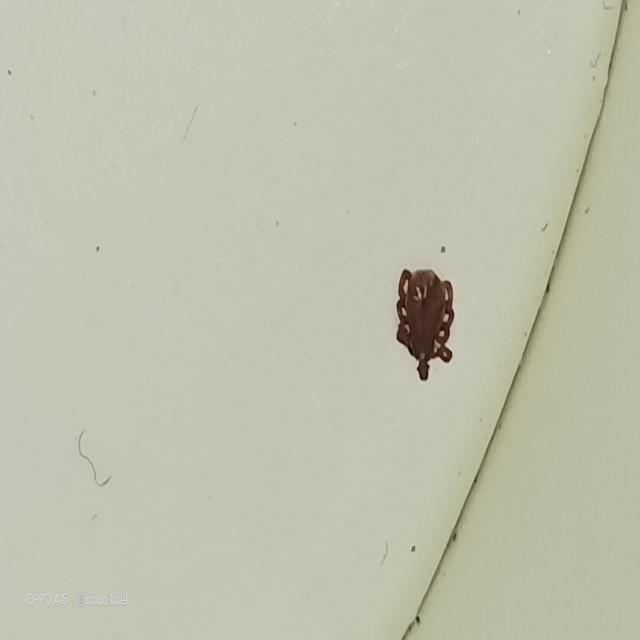Rhipicephalus Sanguineus-M: (395, 268, 456, 385)
